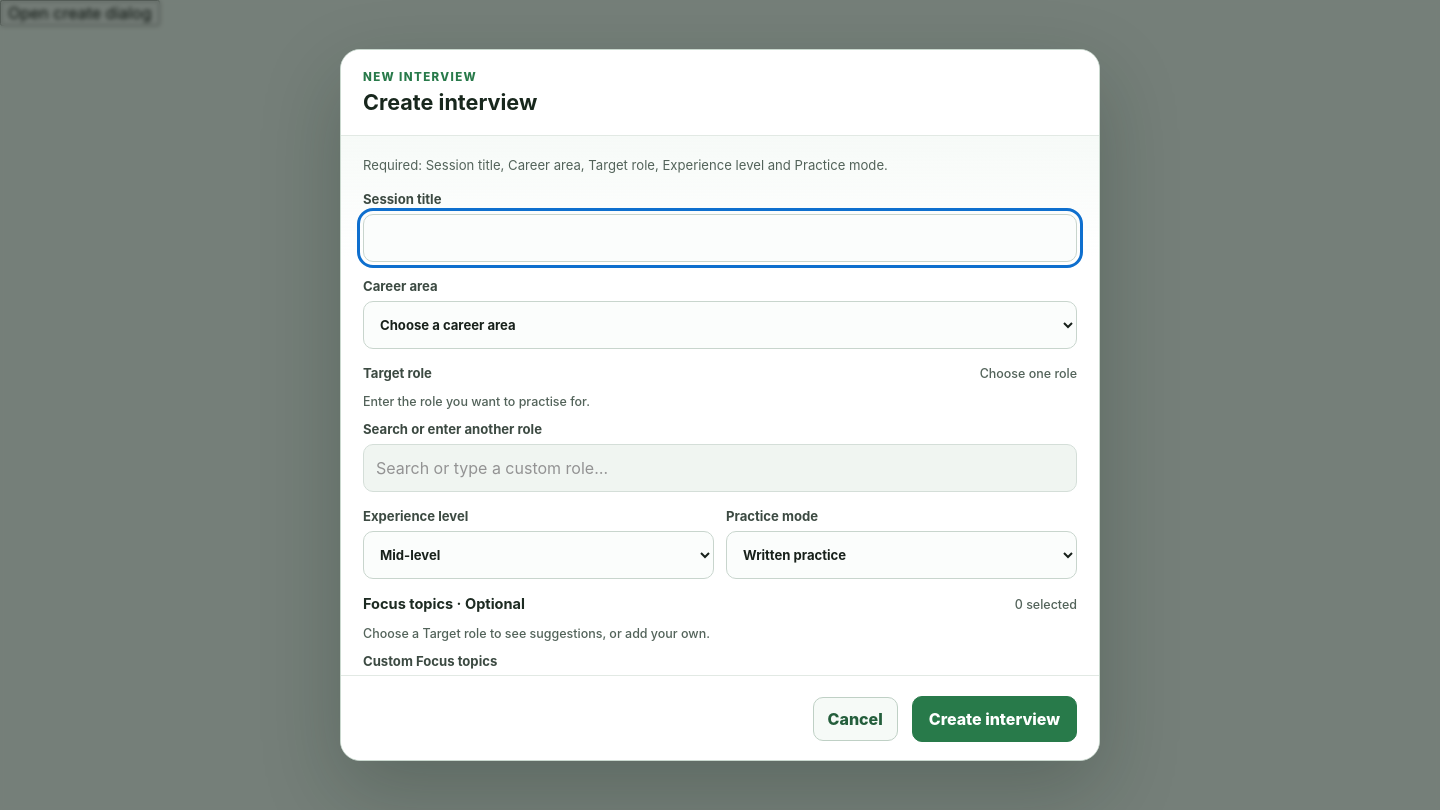
Test case: InterviewCreateDialog › focuses the only invalid title after area and role are valid
The image size is (1440, 810).
Select "Technology & IT" in the dropdown labelled "Career area". click: (720, 325)
box: [363,301,1077,349]
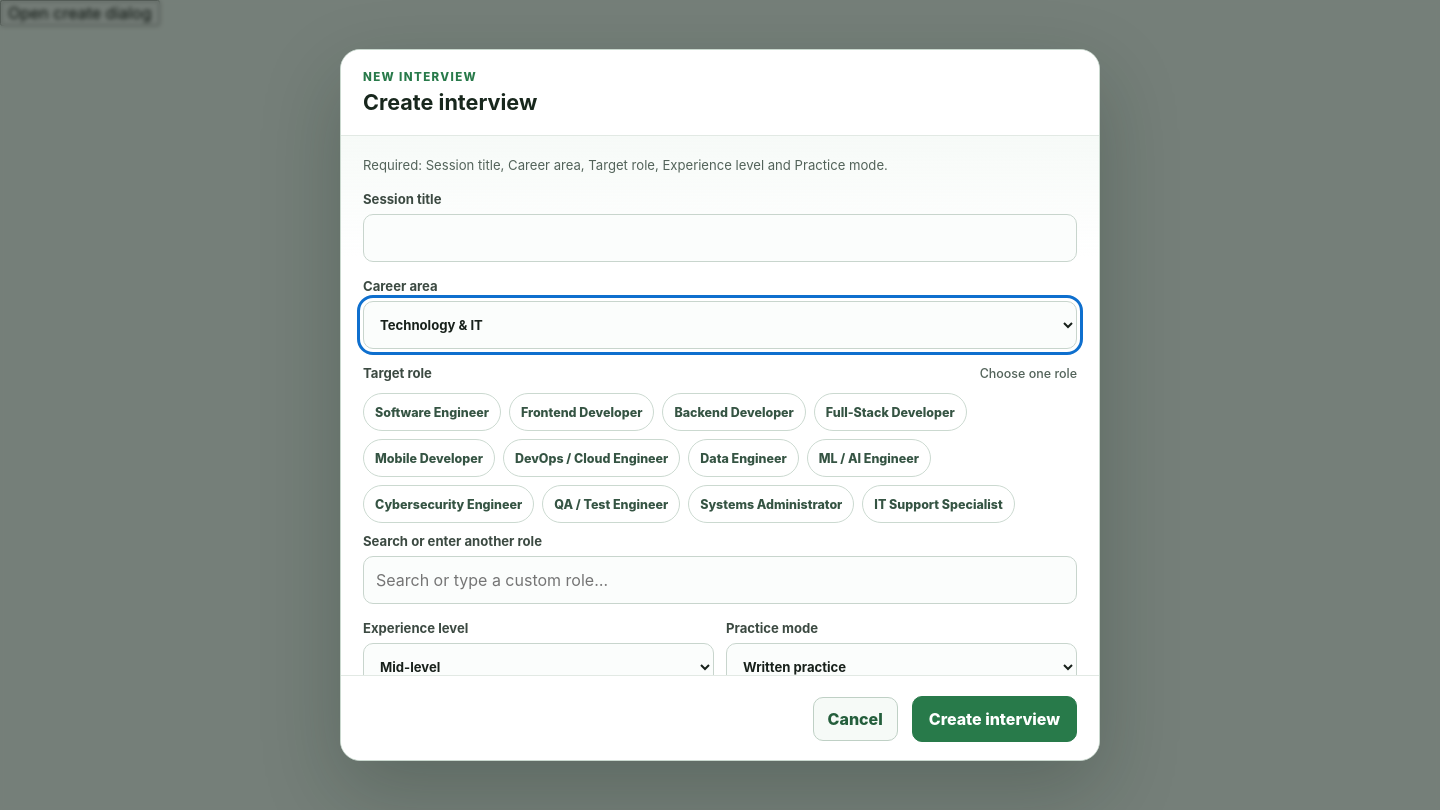
Click the button "Backend Developer". click: (734, 412)
box: [662,393,806,431]
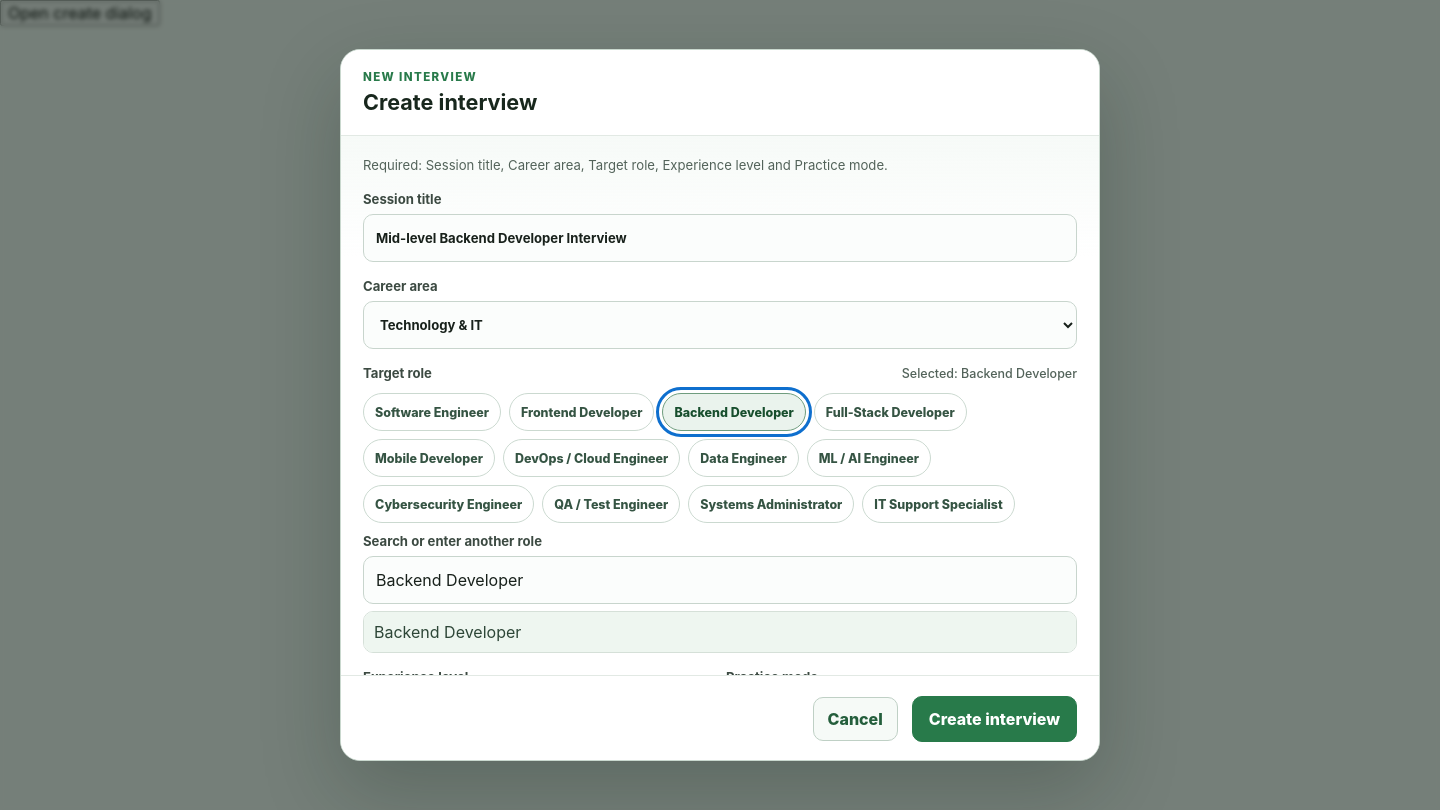
Clear the field labelled "Session title". click: (720, 238)
box: [363,214,1077,262]
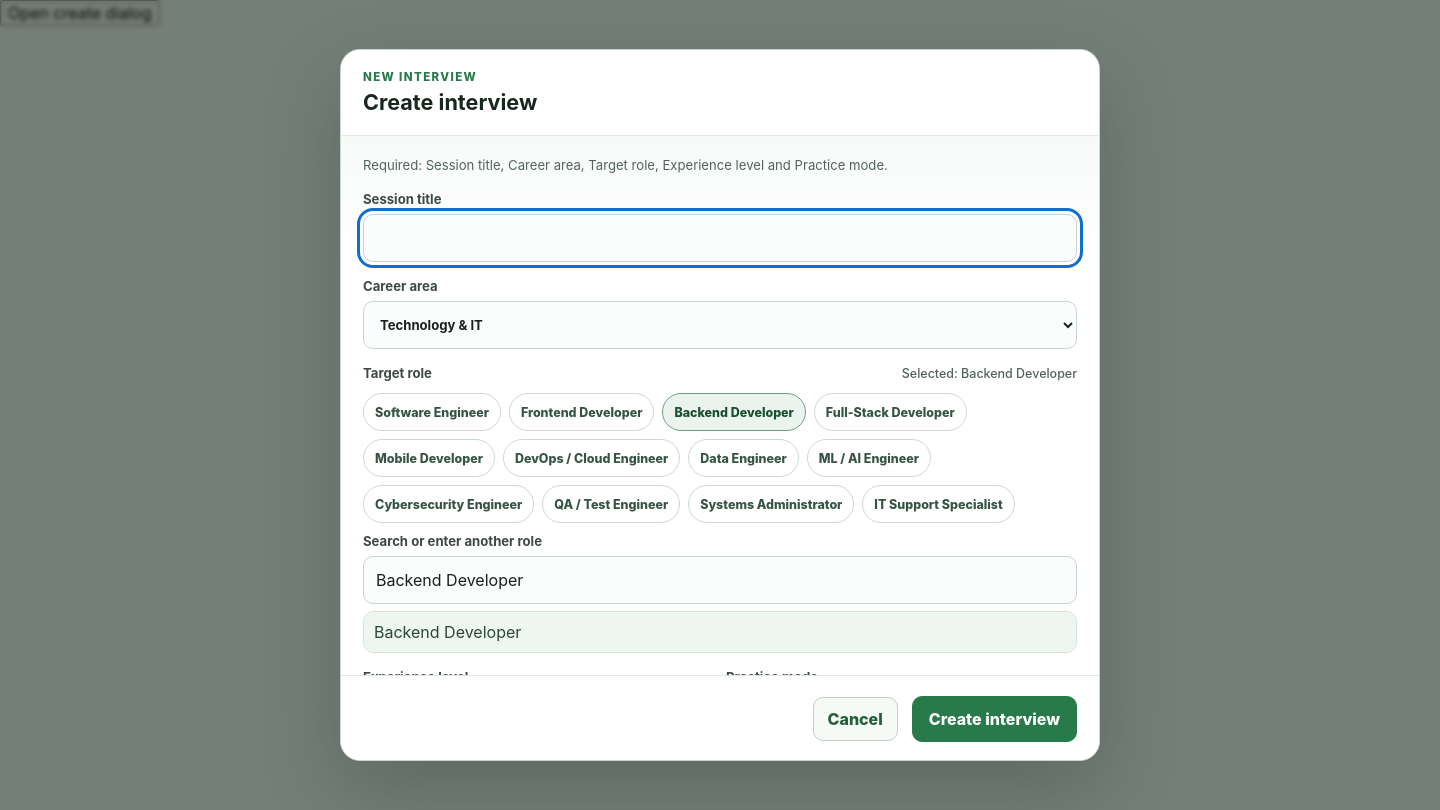
Click the button "Create interview". click: (994, 719)
box: [912,696,1077,742]
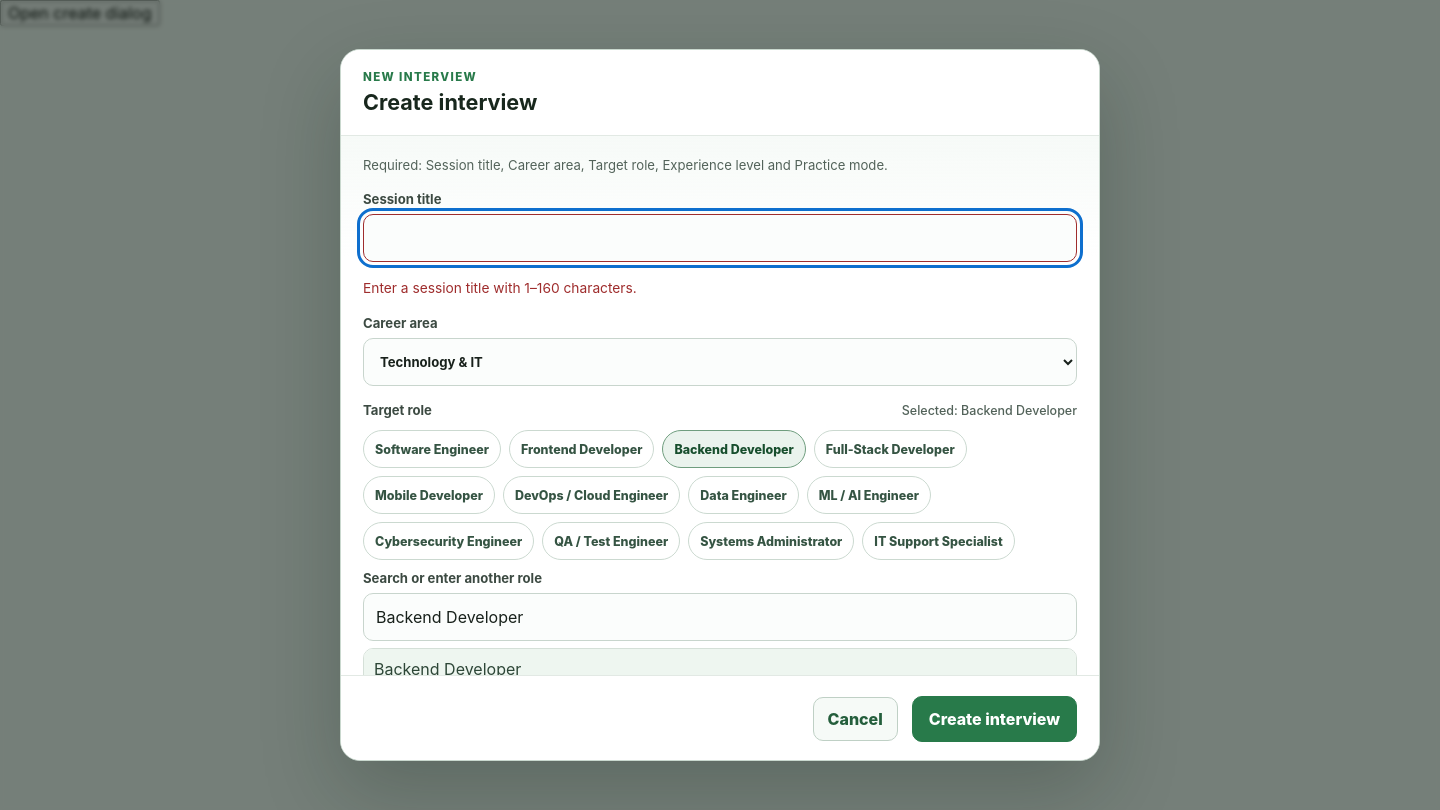
Expected: the text "Enter a session title with 1–160 characters." is shown, [363,280,637,296]
